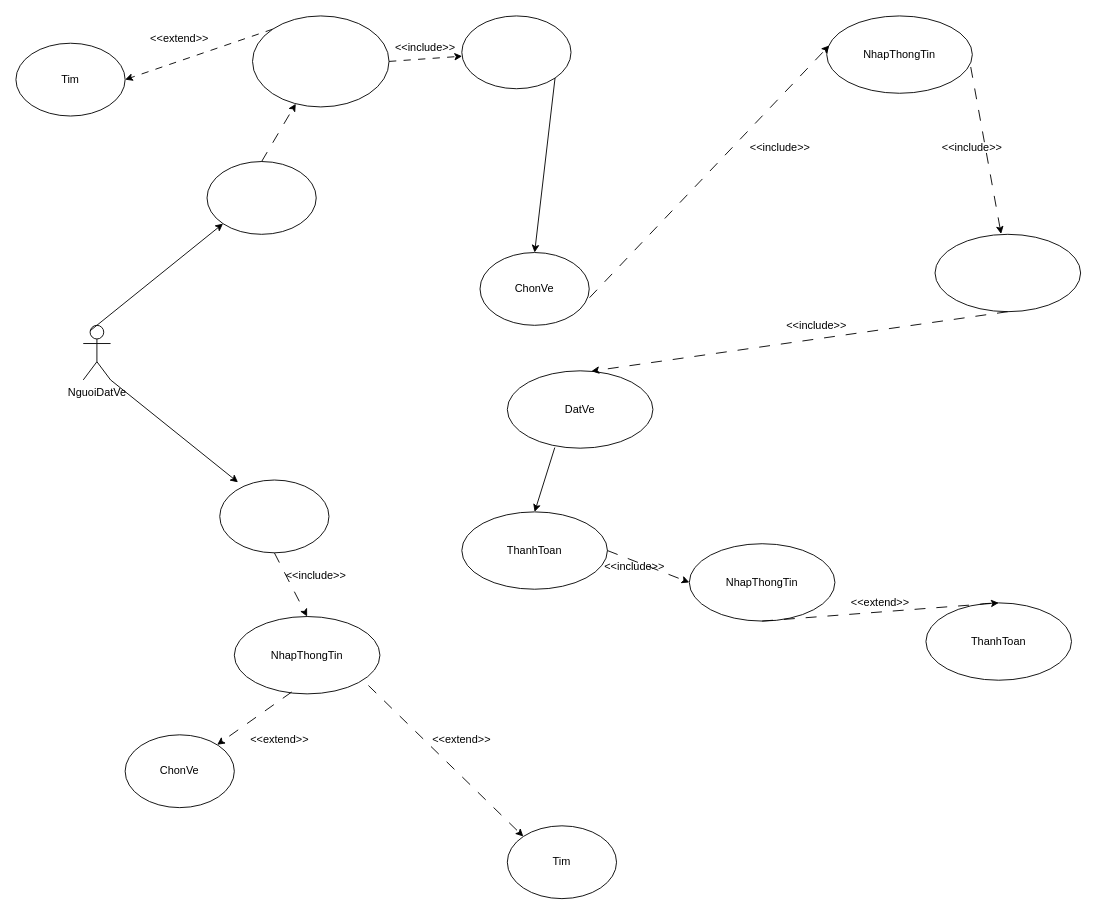
Some shapes in this 1097 by 915 pixel diagram are drawn without their labels. The centre of each missing label's shape, as x and y in pixels:
"ChonGheNgoi" belongs at (x=1007, y=272).
"ChonTuyen" belongs at (x=516, y=52).
"DiemDi,DiemDen,NgayDi" belongs at (x=320, y=61).
"KiemTraVe" belongs at (x=274, y=516).
"TrangChu" belongs at (x=261, y=197).
